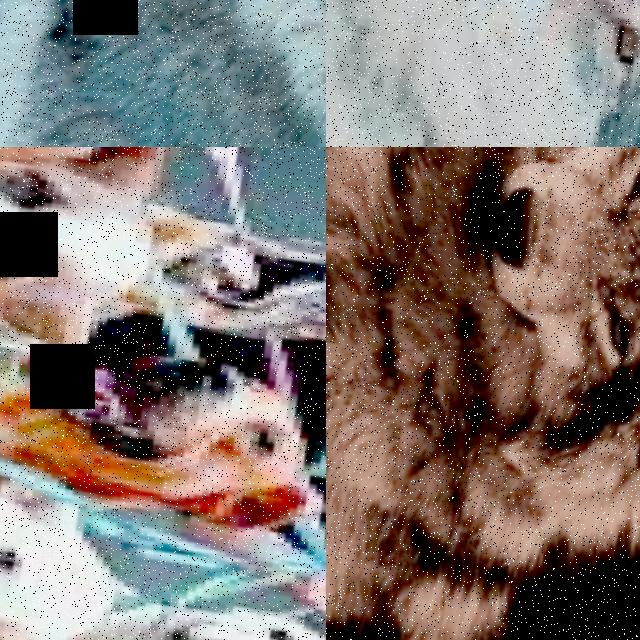dog: (0, 300, 326, 554), (0, 147, 223, 397), (0, 435, 191, 640), (72, 561, 326, 640), (0, 147, 326, 205)
wolf: (326, 147, 640, 640), (0, 0, 326, 147), (326, 0, 640, 147)
